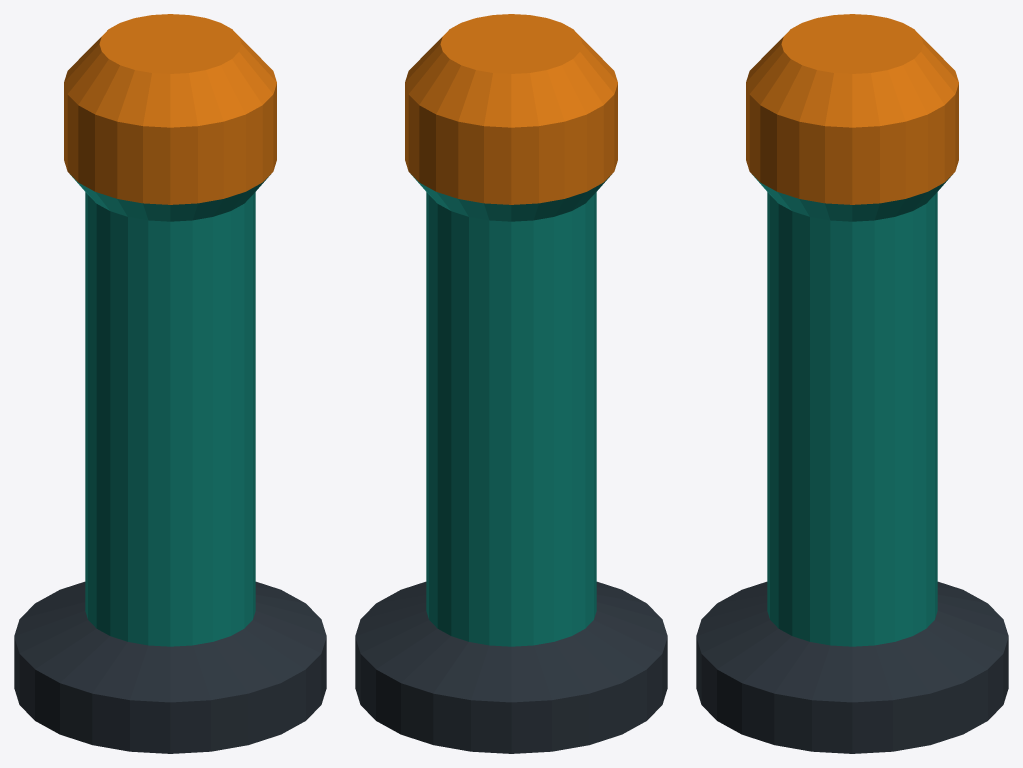
Rendered from beacon-near-meshopt.glb.
3 renders of one model, left to right at view 1: azimuth 30°, elevation 25°; view 2: azimuth 150°, elevation 25°; view 3: azimuth 270°, elevation 25°, orthographic.
Visible parts, largest first — view 1: beacon_near; view 2: beacon_near; view 3: beacon_near.
Part boxes in pixels (x1,y1,x2,y2): beacon_near: (14, 14, 326, 753); beacon_near: (355, 14, 667, 753); beacon_near: (696, 14, 1008, 753).
Bounding box in the file's own units: 0.44 × 1 × 0.44.
